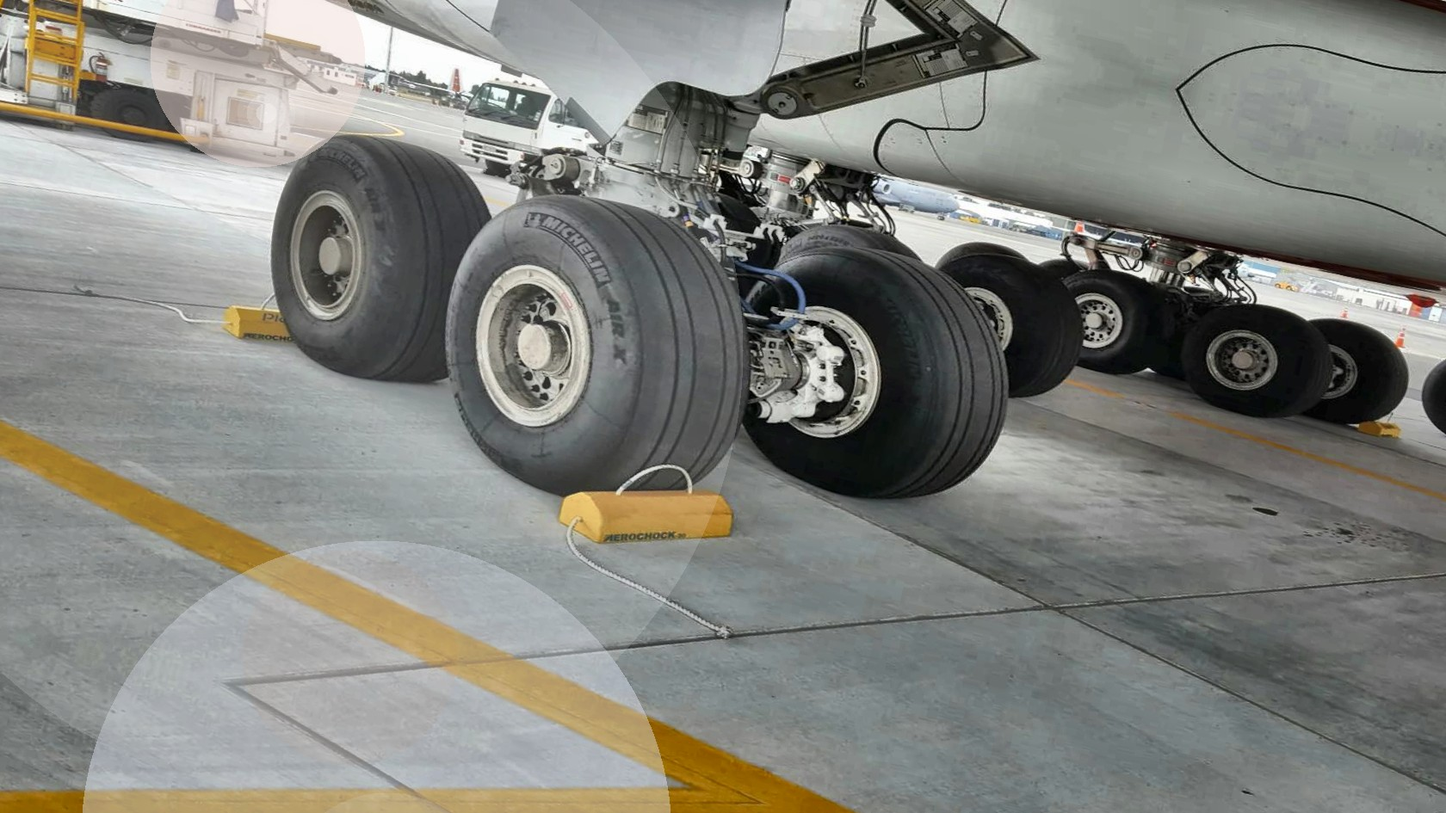chock: (546, 456, 743, 569), (213, 294, 368, 366), (1350, 415, 1411, 446)
wheel: (413, 166, 791, 525), (712, 216, 1033, 525), (242, 116, 514, 399), (908, 231, 1100, 407), (1171, 288, 1340, 431), (1285, 309, 1424, 439), (1046, 259, 1183, 385), (785, 209, 929, 285), (1133, 277, 1227, 386), (84, 80, 180, 150), (937, 231, 1039, 288)
